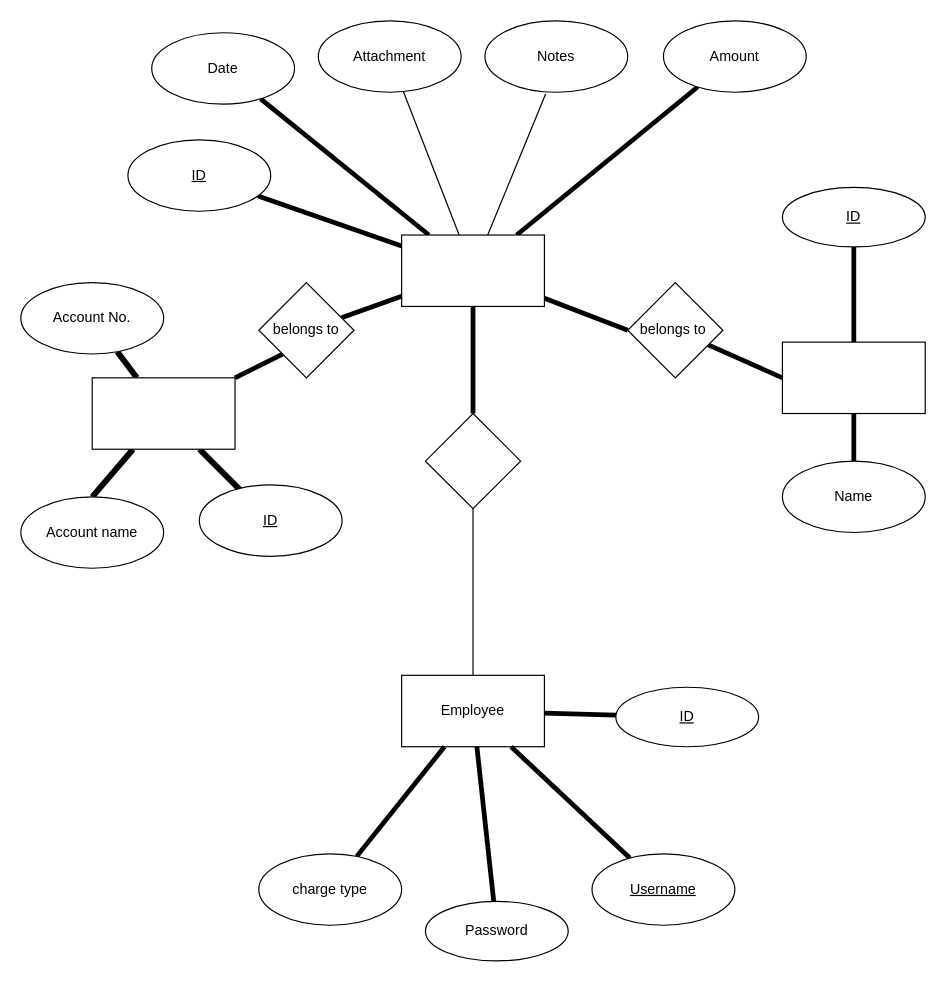
Image size: 946x982. Some labels were removed from this diagram. Here are the shapes that lost their labels. From the top down, the centre of each, then its label:
At pixel 472 270: "Expense".
At pixel 853 377: "Dept".
At pixel 163 413: "GL Account".
At pixel 472 460: "adds".
